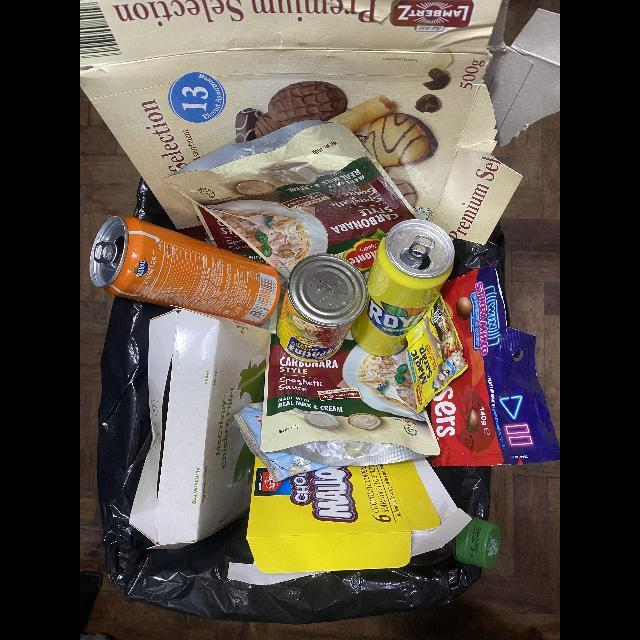metal: (89, 216, 281, 326), (351, 219, 455, 357), (277, 254, 368, 363)
paper: (80, 0, 560, 246), (129, 310, 271, 549), (227, 458, 472, 586)
wrapper: (165, 120, 418, 279), (260, 304, 441, 467), (426, 260, 560, 468), (405, 292, 468, 414), (234, 402, 328, 482)
